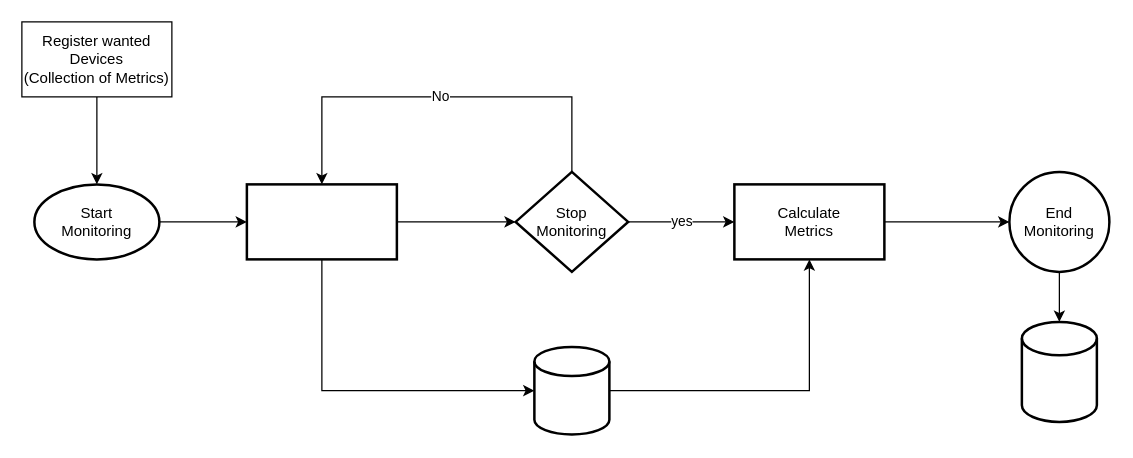
This 1133x458 diagram has some shape labels left out. Each missing label, with the centre of its shape:
File with calculated Data: (x=1059, y=371)
File with Raw Data: (x=571, y=390)
Read Metrics in other Thread: (x=321, y=221)
